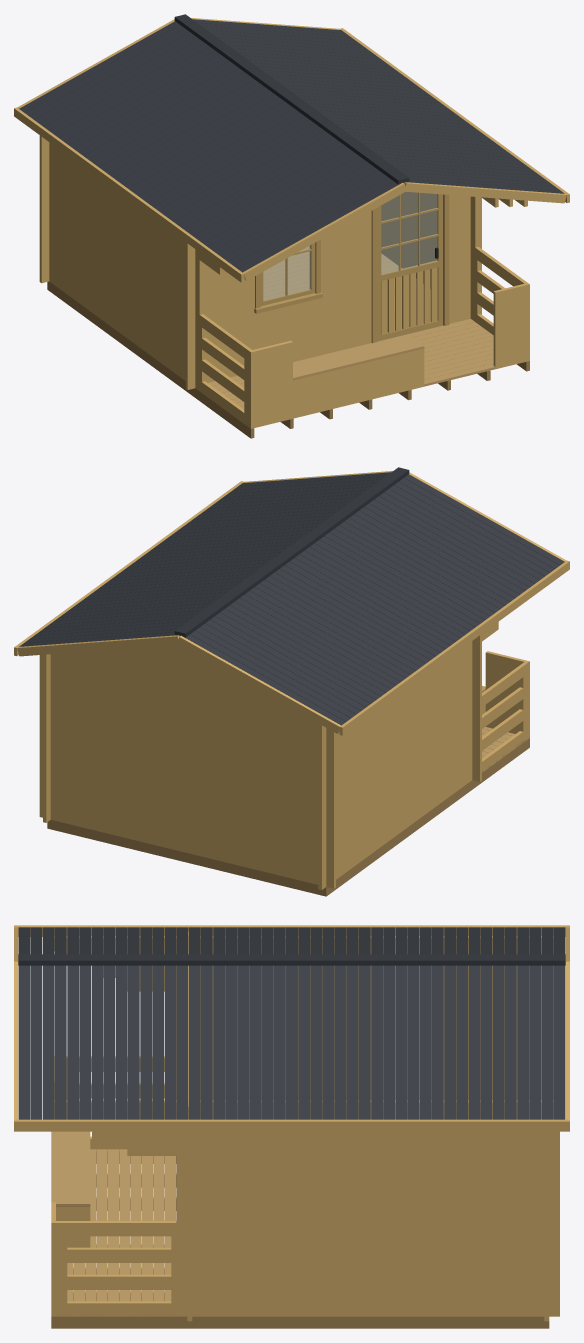
File: эльза_3_8_4_8_44_мм_терраса_с_лавочкой.glb
3 views of the same model, one above another, from view 1: azimuth 30°, elevation 25°; view 2: azimuth 150°, elevation 25°; view 3: azimuth 270°, elevation 25° (orthographic). The views are drawn at different scales.
Parts seen in each view (by area): view 1: roof, walls, deck, object 15, Эльза 3,8×4,8 (44 мм, терраса с лавочкой), slab, floor, object 28, object 21, object 22, object 3, object 2; view 2: walls, roof, Эльза 3,8×4,8 (44 мм, терраса с лавочкой); view 3: roof, walls, deck, Эльза 3,8×4,8 (44 мм, терраса с лавочкой), slab.
Part boxes in pixels (box(x1,y1,x2,y2)): roof: box(14, 14, 569, 282); walls: box(39, 135, 529, 428); deck: box(208, 319, 495, 425); object 15: box(381, 192, 437, 274); Эльза 3,8×4,8 (44 мм, терраса с лавочкой): box(47, 281, 529, 438); slab: box(293, 334, 424, 380); floor: box(263, 246, 430, 329); object 28: box(263, 245, 310, 300); object 21: box(371, 208, 377, 343); object 22: box(443, 194, 449, 325); object 3: box(437, 194, 442, 326); object 2: box(377, 206, 381, 341); walls: box(39, 622, 529, 889); roof: box(14, 467, 569, 735); Эльза 3,8×4,8 (44 мм, терраса с лавочкой): box(47, 738, 529, 896); roof: box(14, 925, 569, 1131); walls: box(51, 931, 559, 1321); deck: box(56, 1149, 180, 1316); Эльза 3,8×4,8 (44 мм, терраса с лавочкой): box(51, 1152, 549, 1328); slab: box(51, 1131, 90, 1206).
Size of the model in its own units: 4.24 by 2.9 by 5.08.
